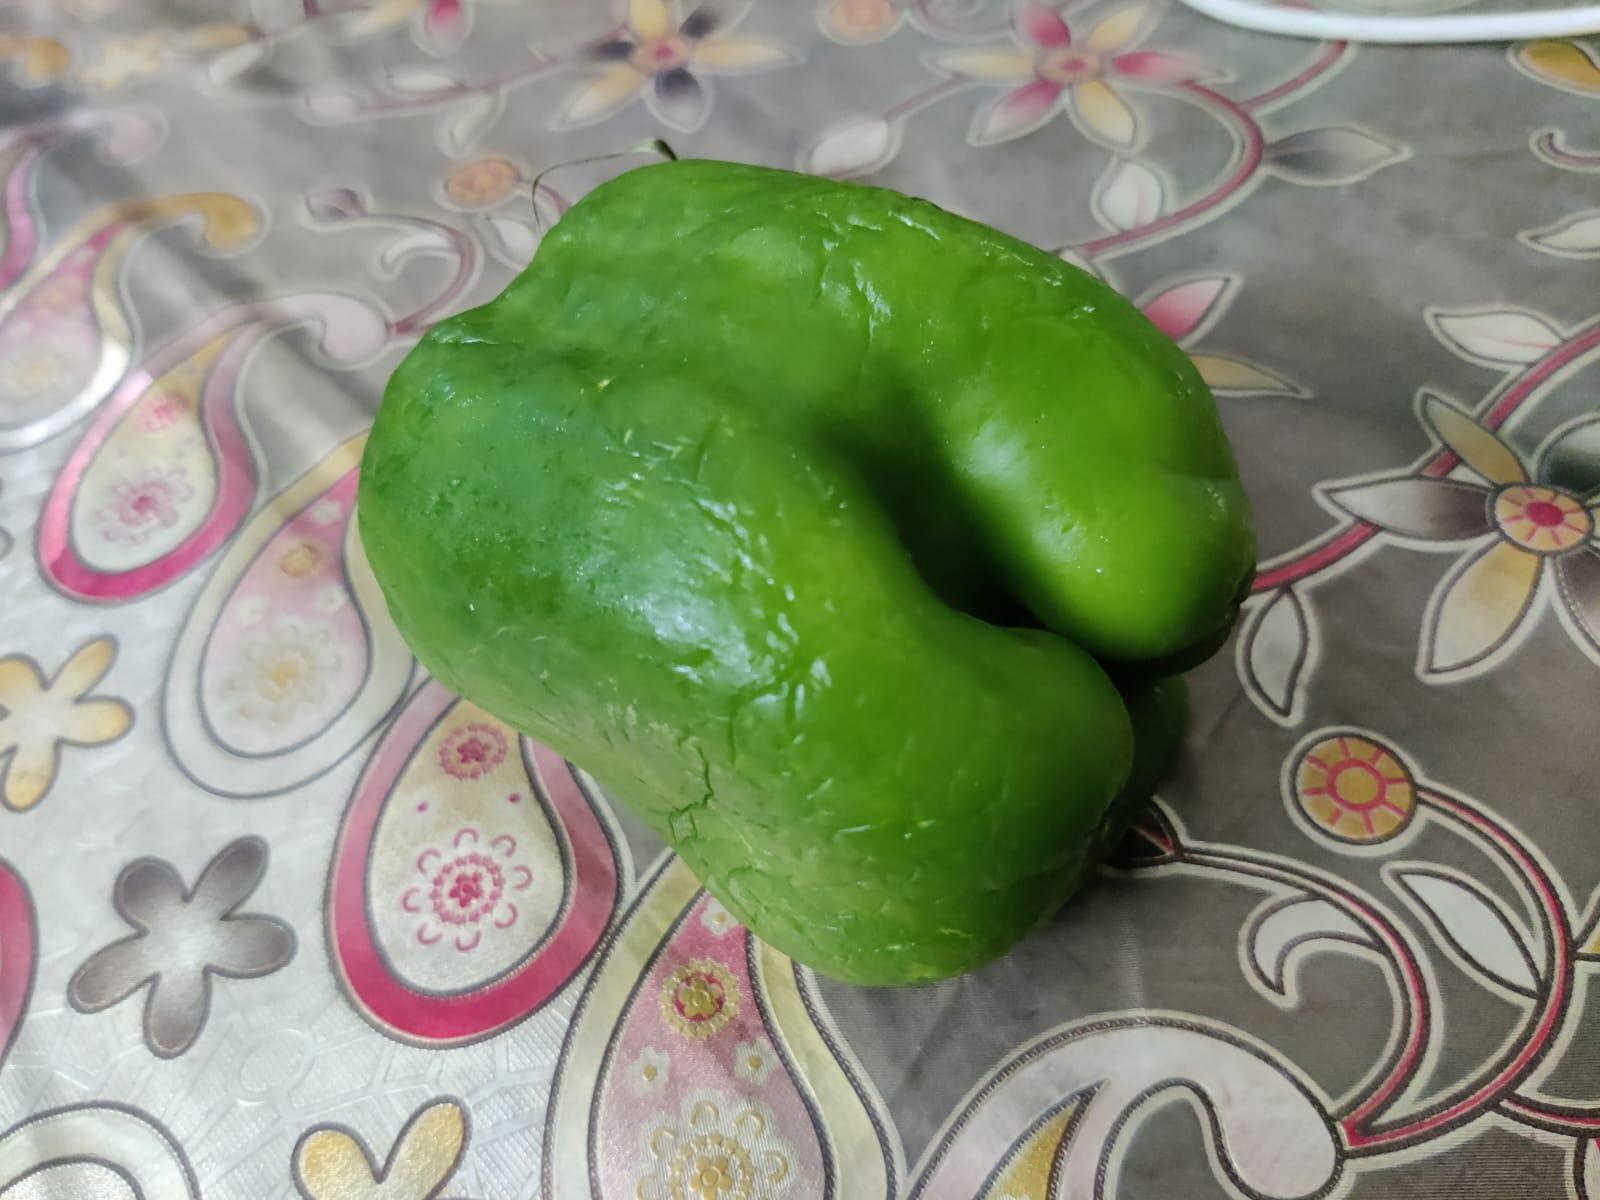non-mango: (343, 160, 1254, 989)
